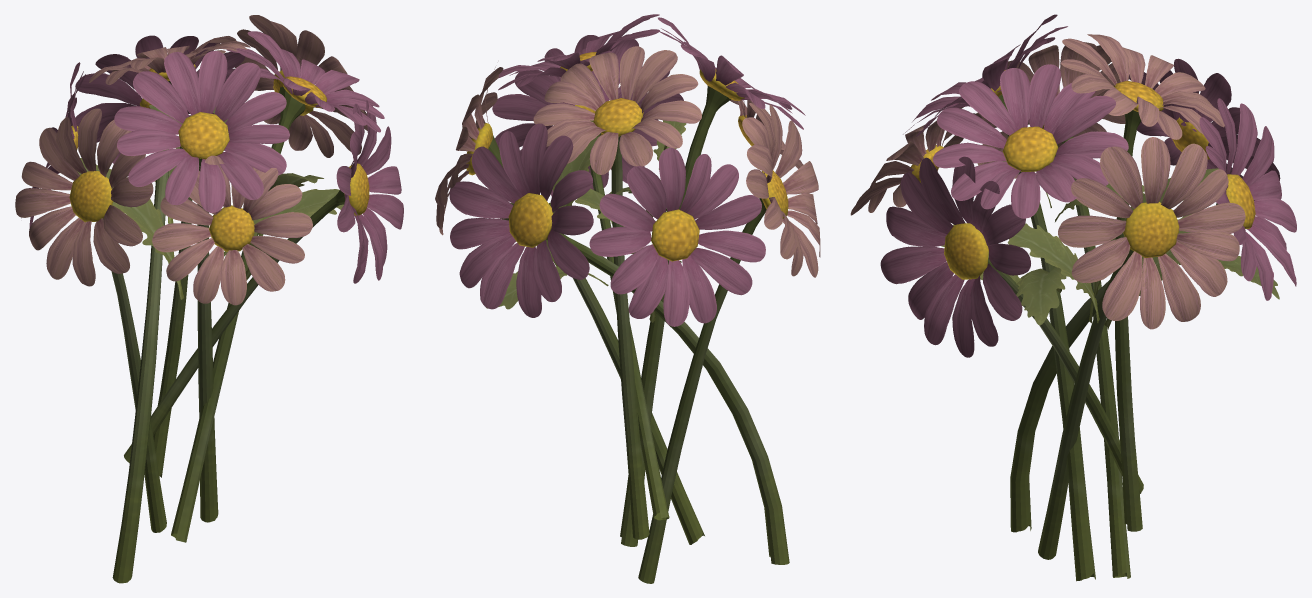
File: colarful_flower.fbx
3 views of the same model, side by side, from view 1: azimuth 30°, elevation 25°; view 2: azimuth 150°, elevation 25°; view 3: azimuth 270°, elevation 25° (orthographic). The views are drawn at different scales.
Parts seen in each view (by area): view 1: polySurface3416, polySurface3418, polySurface3380, polySurface3417, polySurface3400, polySurface3350, polySurface3407, polySurface3394, polySurface3396, polySurface3387, polySurface3356, polySurface3347 (+1 smaller); view 2: polySurface3385, polySurface3394, polySurface3387, polySurface3418, polySurface3400, polySurface3416, polySurface3417, polySurface3350, polySurface3396, polySurface3407, polySurface3365, polySurface3380 (+1 smaller); view 3: polySurface3417, polySurface3400, polySurface3407, polySurface3394, polySurface3387, polySurface3416, polySurface3418, polySurface3350, polySurface3396, polySurface3385, polySurface3380, polySurface3365 (+1 smaller).
Part boxes in pixels (x1=…): polySurface3416: x1=114, y1=51, x2=289, y2=522; polySurface3418: x1=15, y1=108, x2=166, y2=532; polySurface3380: x1=152, y1=155, x2=312, y2=305; polySurface3417: x1=171, y1=15, x2=367, y2=542; polySurface3400: x1=124, y1=100, x2=403, y2=462; polySurface3350: x1=112, y1=149, x2=168, y2=583; polySurface3407: x1=227, y1=31, x2=384, y2=132; polySurface3394: x1=75, y1=35, x2=244, y2=163; polySurface3396: x1=153, y1=81, x2=192, y2=477; polySurface3387: x1=89, y1=36, x2=250, y2=84; polySurface3356: x1=77, y1=158, x2=183, y2=299; polySurface3347: x1=224, y1=189, x2=343, y2=256; polySurface3385: x1=589, y1=147, x2=765, y2=326; polySurface3394: x1=449, y1=123, x2=593, y2=317; polySurface3387: x1=533, y1=46, x2=701, y2=174; polySurface3418: x1=638, y1=103, x2=820, y2=583; polySurface3400: x1=492, y1=35, x2=683, y2=520; polySurface3416: x1=620, y1=17, x2=805, y2=546; polySurface3417: x1=435, y1=67, x2=704, y2=544; polySurface3350: x1=546, y1=229, x2=789, y2=564; polySurface3396: x1=611, y1=136, x2=649, y2=539; polySurface3407: x1=498, y1=14, x2=659, y2=90; polySurface3365: x1=549, y1=137, x2=598, y2=213; polySurface3380: x1=730, y1=99, x2=803, y2=168; polySurface3417: x1=1038, y1=137, x2=1245, y2=559; polySurface3400: x1=880, y1=156, x2=1143, y2=493; polySurface3407: x1=932, y1=64, x2=1128, y2=218; polySurface3394: x1=1199, y1=98, x2=1296, y2=300; polySurface3387: x1=1061, y1=34, x2=1224, y2=139; polySurface3416: x1=903, y1=14, x2=1095, y2=581; polySurface3418: x1=976, y1=42, x2=1130, y2=578; polySurface3350: x1=1010, y1=203, x2=1218, y2=532; polySurface3396: x1=1115, y1=110, x2=1142, y2=531; polySurface3385: x1=1128, y1=58, x2=1280, y2=200; polySurface3380: x1=850, y1=103, x2=982, y2=215; polySurface3365: x1=1007, y1=223, x2=1099, y2=322.
Size of the model in its own units: 23.05 by 32.78 by 24.22.
